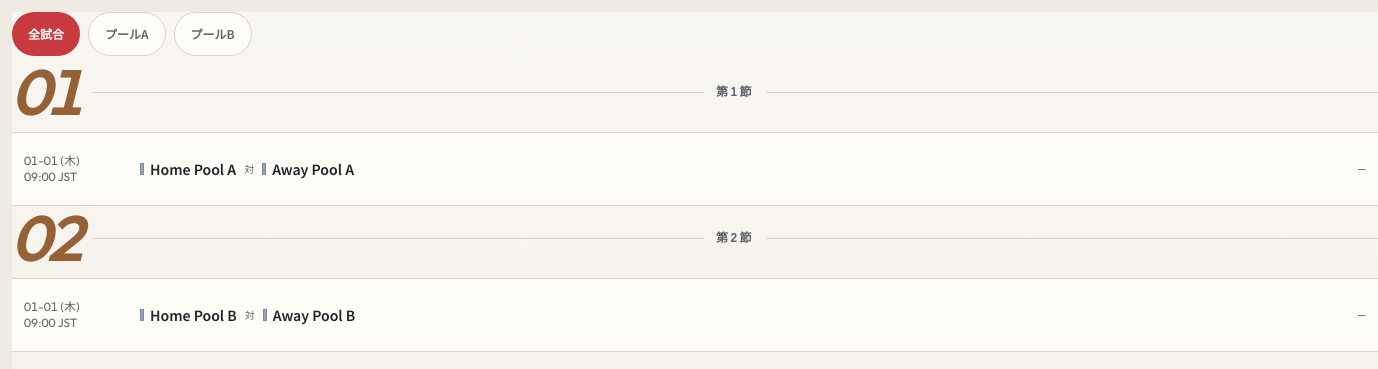
Test: season match groups › filters the already rendered match groups when a pool tab is selected
This screenshot has width=1378, height=369.
Expected: the text "Home Pool A" is shown, [150, 159, 236, 179]
Expected: the text "Home Pool B" is shown, [150, 305, 237, 325]
Click the tab "プールA" at point(127, 34), box [88, 12, 166, 56]
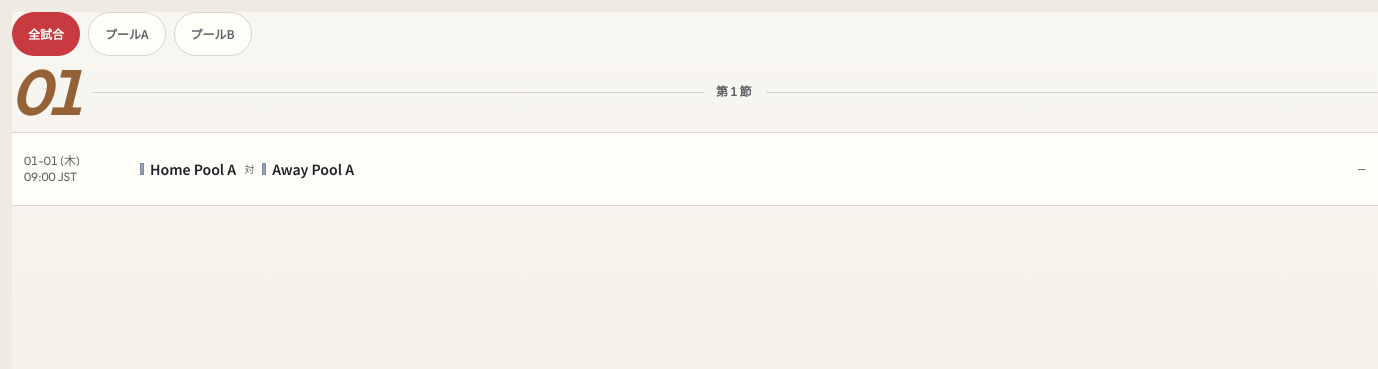
Expected: the text "Home Pool A" is shown, [150, 159, 236, 179]
Expected: the link "Home Pool B" is gone
